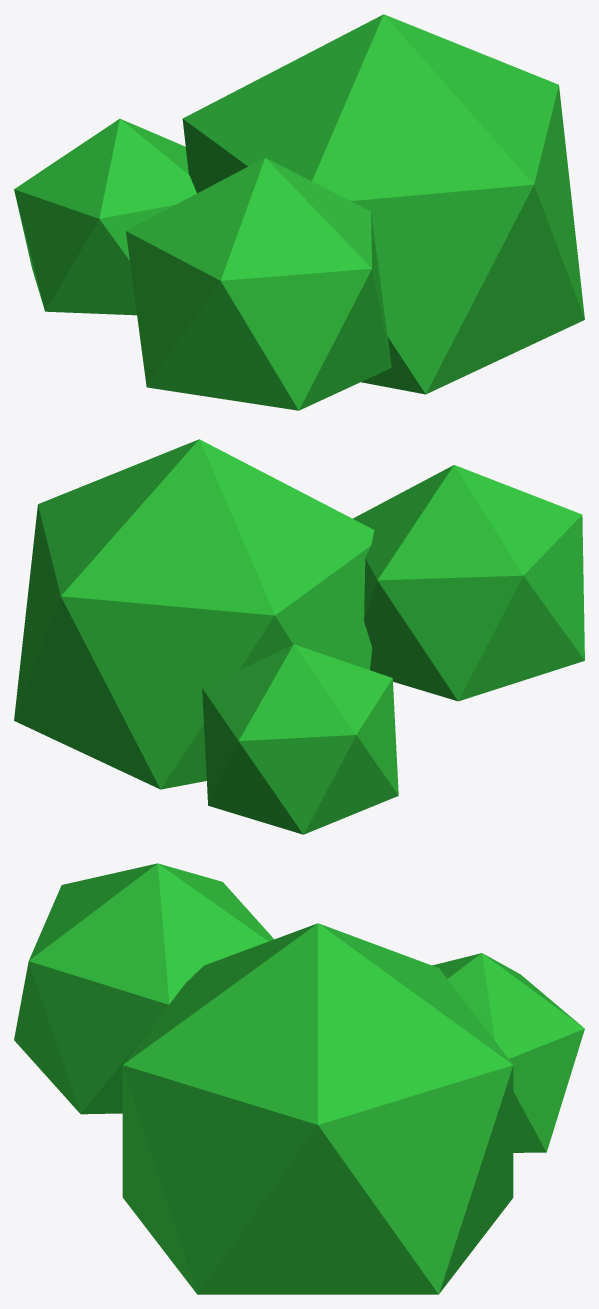
3 views of the same model, one above another, from view 1: azimuth 30°, elevation 25°; view 2: azimuth 150°, elevation 25°; view 3: azimuth 270°, elevation 25° (orthographic). The views are drawn at different scales.
Visible parts, largest first — view 1: Icosphere, Icosphere.003, Icosphere.001; view 2: Icosphere, Icosphere.003, Icosphere.001; view 3: Icosphere, Icosphere.003, Icosphere.001.
Boxes of the visible parts, x1,y1,x2,y2 form: Icosphere: (182, 14, 584, 394); Icosphere.003: (126, 157, 391, 410); Icosphere.001: (14, 118, 196, 315); Icosphere: (14, 439, 374, 789); Icosphere.003: (353, 465, 584, 701); Icosphere.001: (202, 644, 398, 834); Icosphere: (122, 923, 513, 1294); Icosphere.003: (14, 863, 274, 1114); Icosphere.001: (432, 953, 584, 1152).
Size of the model in its own units: 1.07 by 0.604 by 1.03.
